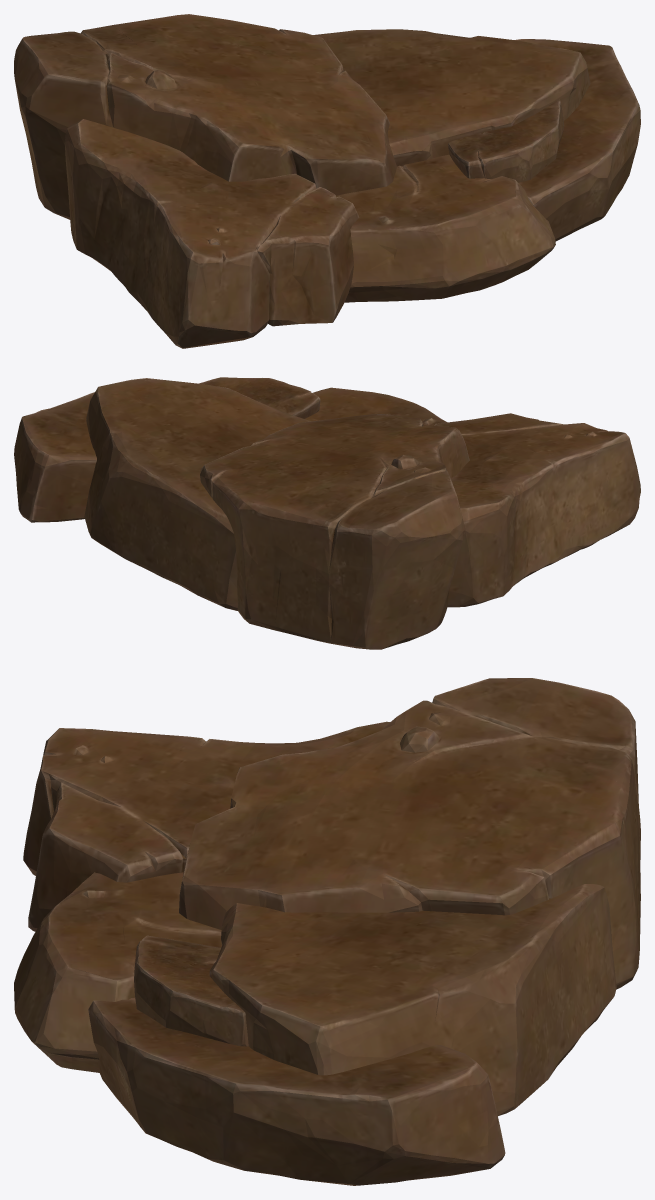
3 renders of one model, top to bottom at view 1: azimuth 30°, elevation 25°; view 2: azimuth 150°, elevation 25°; view 3: azimuth 270°, elevation 25°, orthographic. The views are drawn at different scales.
Parts seen in each view (by area): view 1: SM_Mining_Node_Large_Clay_02_LOD0; view 2: SM_Mining_Node_Large_Clay_02_LOD0; view 3: SM_Mining_Node_Large_Clay_02_LOD0.
Boxes of the visible parts, left/top/right/bottom form: SM_Mining_Node_Large_Clay_02_LOD0: left=14, top=14, right=640, bottom=348; SM_Mining_Node_Large_Clay_02_LOD0: left=14, top=377, right=640, bottom=649; SM_Mining_Node_Large_Clay_02_LOD0: left=14, top=678, right=640, bottom=1185.
Bounding box in the file's own units: 5.31 × 1.38 × 3.95.
1 material, 1 textured.
